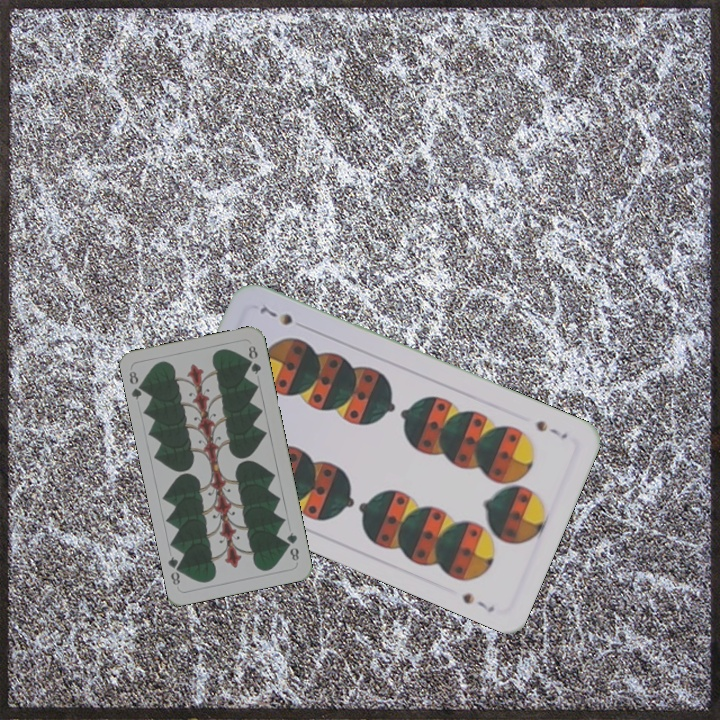G8: (125, 367, 148, 402), (282, 528, 301, 564)
S7: (532, 416, 570, 442)
